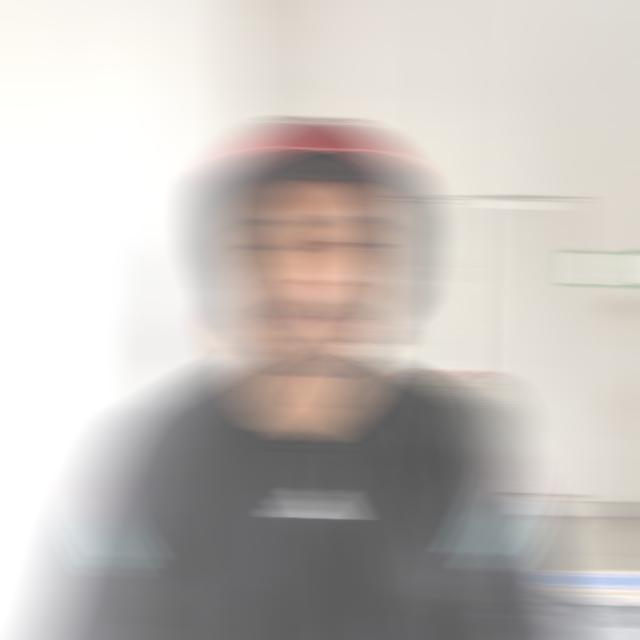With Helmet: (194, 116, 429, 375)
